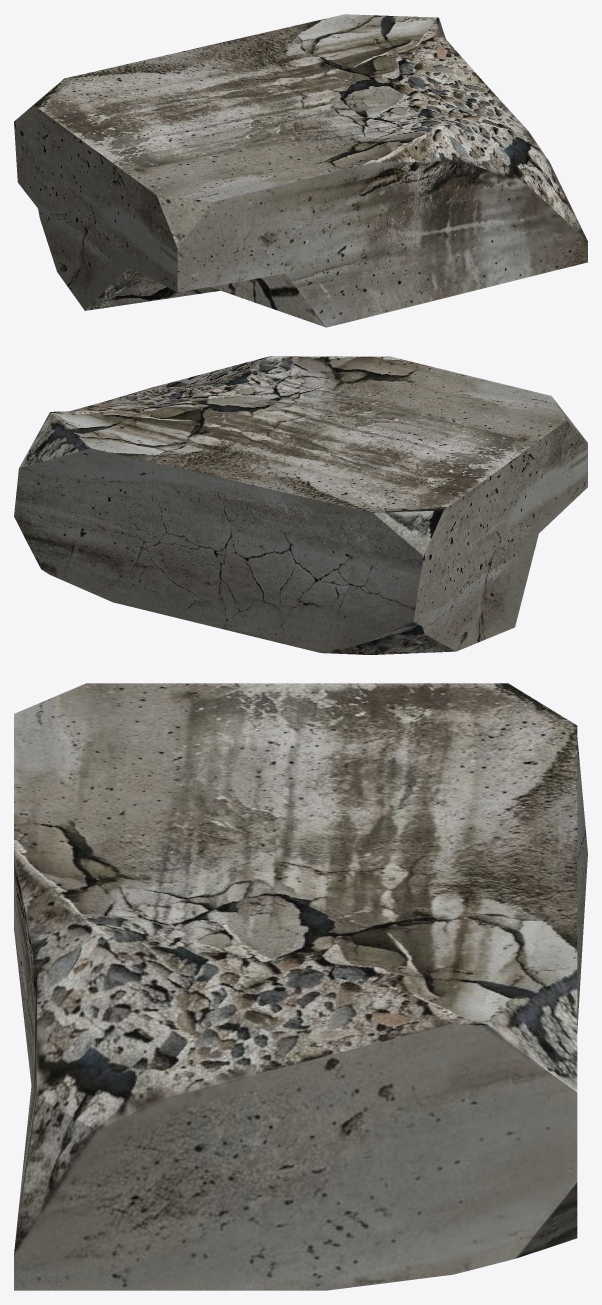
The model's file is ColumnDebris.fbx.
3 views of the same model, one above another, from view 1: azimuth 30°, elevation 25°; view 2: azimuth 150°, elevation 25°; view 3: azimuth 270°, elevation 25° (orthographic). The views are drawn at different scales.
Visible parts, largest first — view 1: Cube.004; view 2: Cube.004; view 3: Cube.004.
Part boxes in pixels (box(x1,y1,x2,y2)): Cube.004: box(14, 14, 587, 327); Cube.004: box(14, 356, 587, 654); Cube.004: box(14, 683, 587, 1290).
Size of the model in its own units: 17.93 by 6.46 by 12.3.
1 material, 1 textured.
